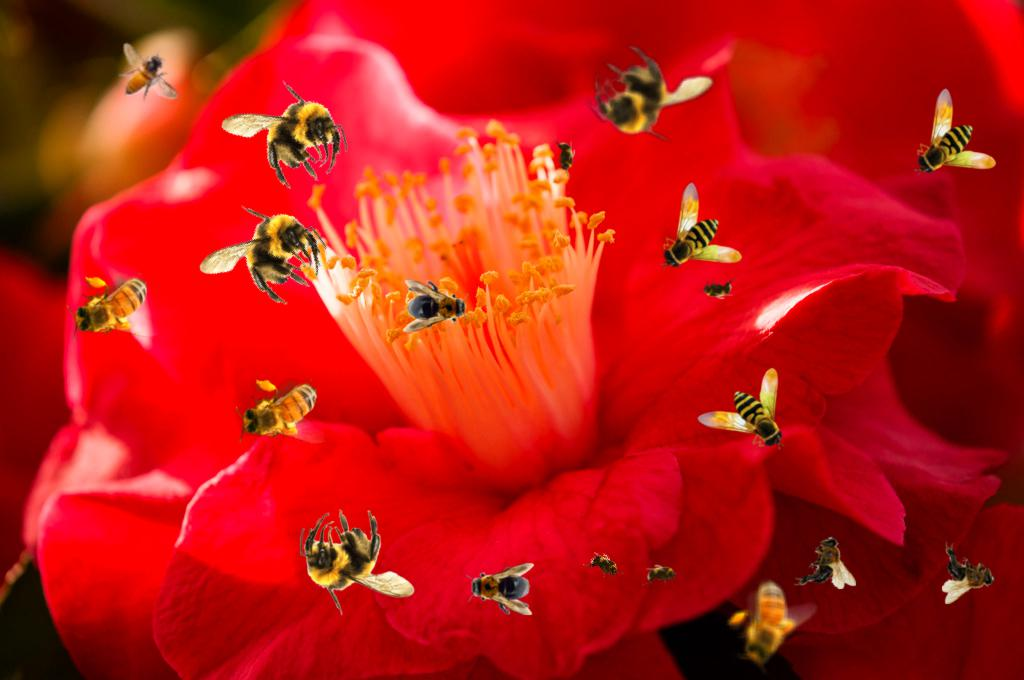Bee: (573, 14, 730, 171), (184, 178, 341, 335), (213, 66, 356, 205), (711, 564, 825, 679), (300, 509, 415, 616), (233, 374, 331, 449), (914, 88, 996, 176), (660, 182, 742, 270), (697, 368, 785, 450), (67, 273, 160, 341), (107, 31, 181, 116), (466, 563, 534, 615), (403, 280, 471, 332), (942, 542, 995, 604), (794, 536, 856, 589), (582, 546, 628, 586), (554, 137, 576, 177), (697, 278, 737, 300), (642, 564, 682, 586)
